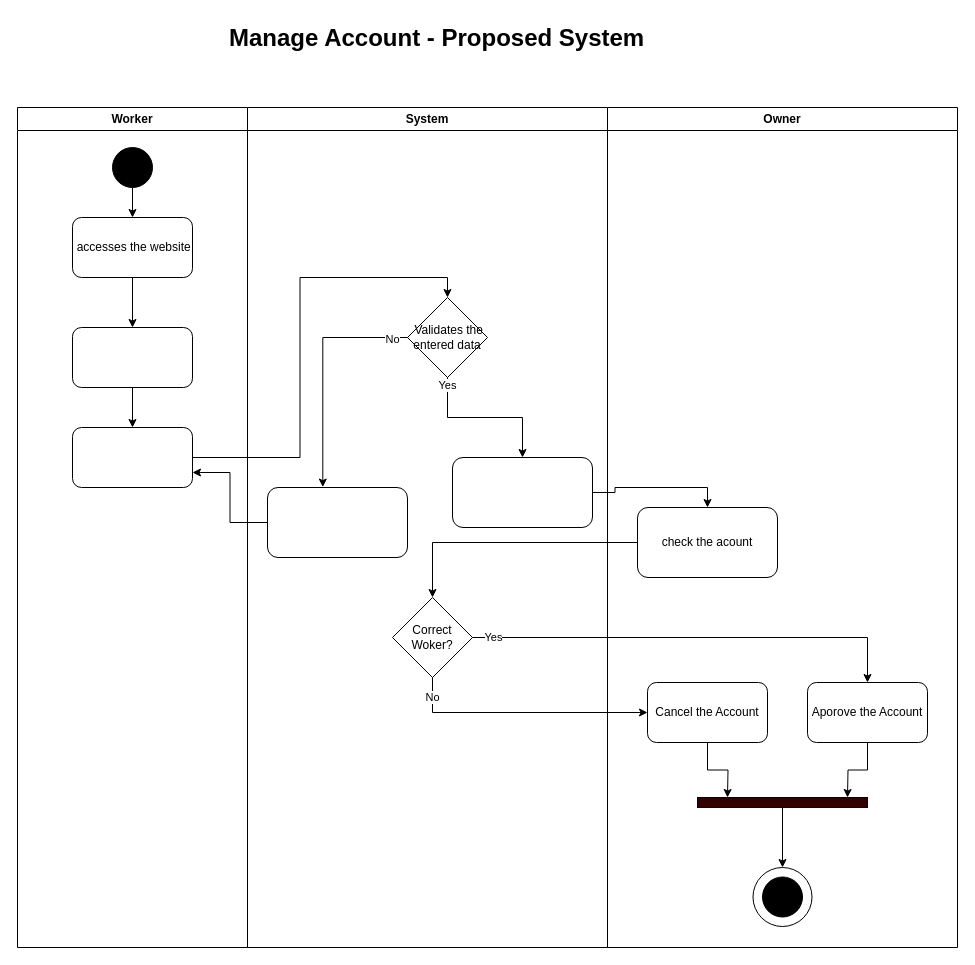
The diagram is 975 pixels wide and 965 high, and some of its shapes have lost their labels. The centre of each missing label's shape, as x and y in pixels:
"displays error messages for correction" goes at [337,522].
"fills in the registration form" goes at [132,457].
"go to the Registation page" goes at [132,357].
"stores the customer information in the database" goes at [522,492].
